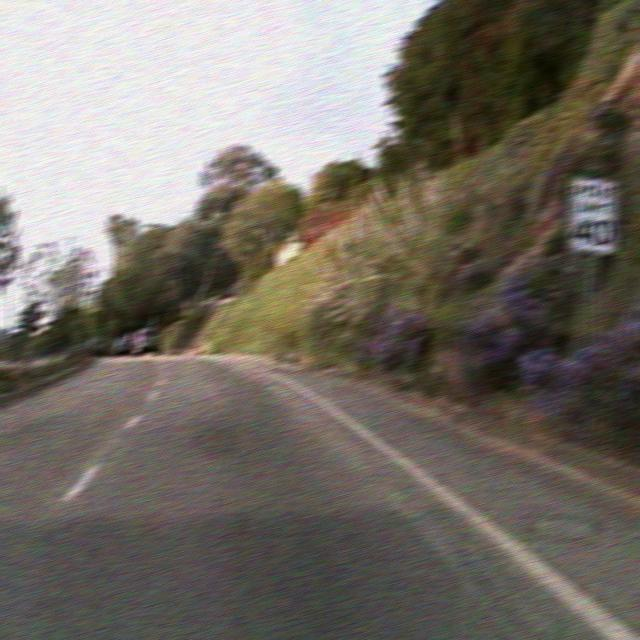speedLimit40: (567, 176, 618, 253)
